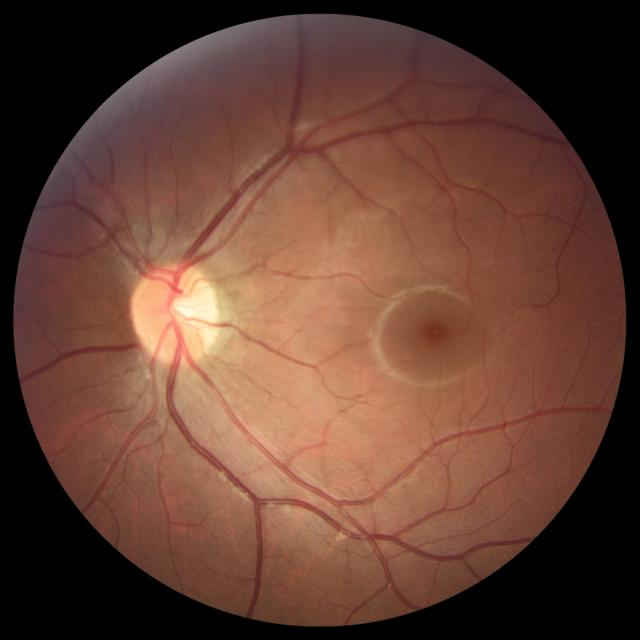OC: (164, 292, 199, 330)
OD: (133, 262, 221, 366)
